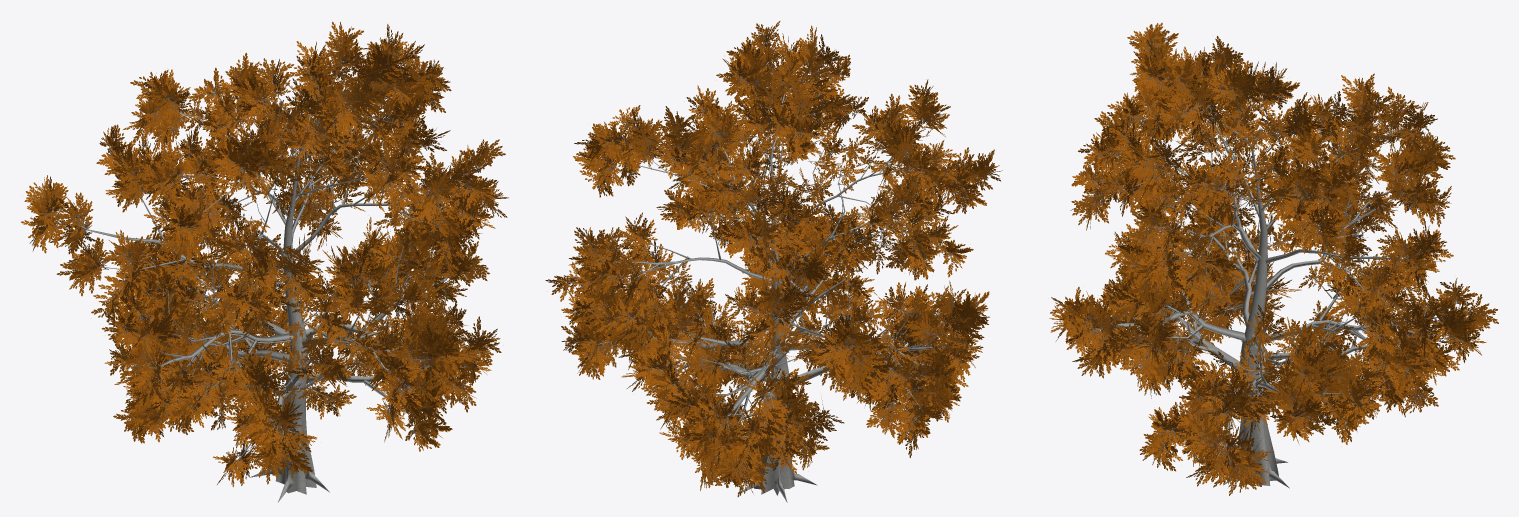
The model's file is beech-fall-balanced.gltf.
The picture shows the model from 3 angles, left to right: view 1: azimuth 30°, elevation 25°; view 2: azimuth 150°, elevation 25°; view 3: azimuth 270°, elevation 25°; orthographic projection. The views are drawn at different scales.
Visible parts, largest first — view 1: American Beech balanced Fall; view 2: American Beech balanced Fall; view 3: American Beech balanced Fall.
Part boxes in pixels (<box>): American Beech balanced Fall: <box>21,21,508,502</box>; American Beech balanced Fall: <box>545,21,1002,502</box>; American Beech balanced Fall: <box>1049,22,1498,495</box>.
Size of the model in its own units: 786 by 826 by 774.
Materials: 2 (2 with a texture image).
